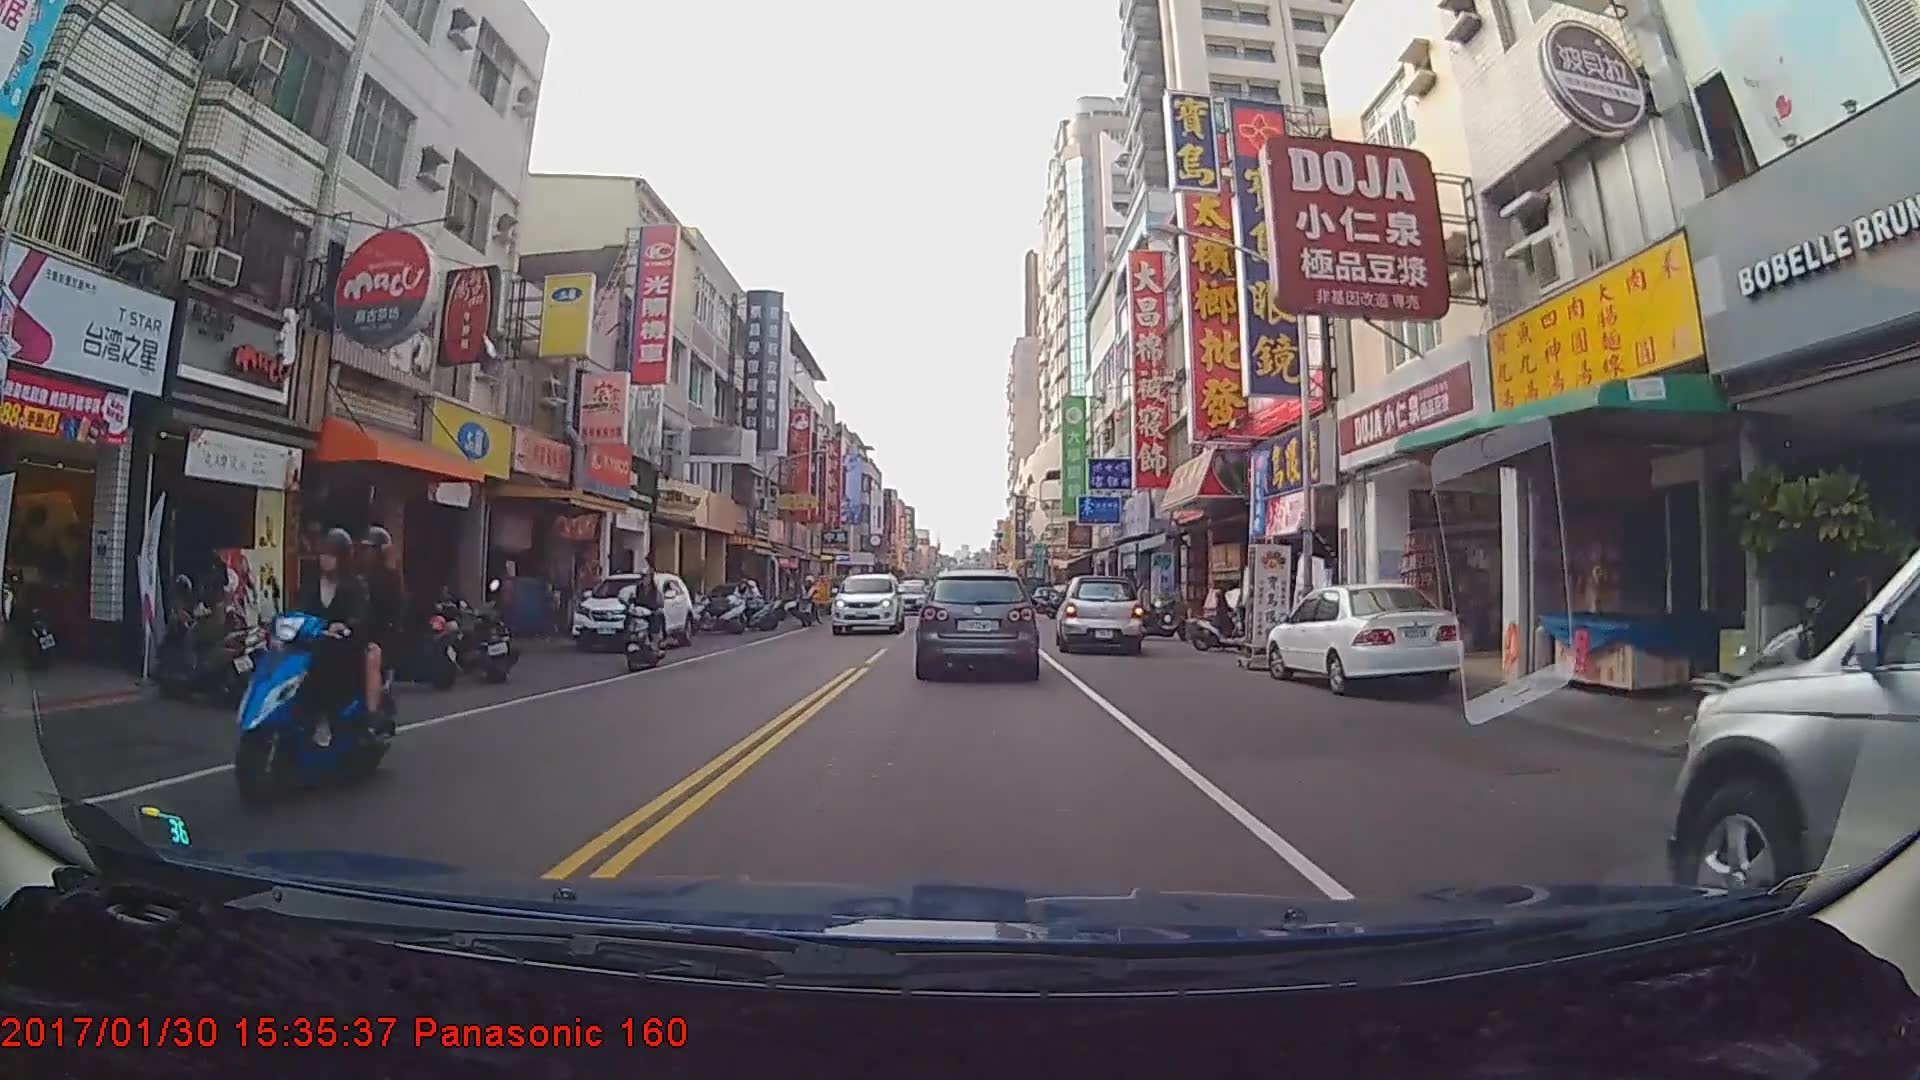rider: (215, 516, 400, 808), (1191, 583, 1264, 657), (621, 569, 673, 674)
vehicle: (1671, 482, 1920, 1035), (1267, 581, 1462, 692), (916, 569, 1037, 676), (568, 573, 694, 654), (1056, 576, 1142, 656), (830, 571, 904, 635)
